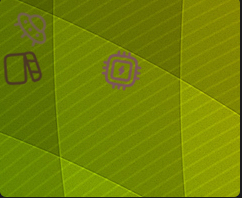core: (98, 47, 145, 94)
spaceship: (10, 7, 50, 48)
video: (2, 48, 43, 90)
